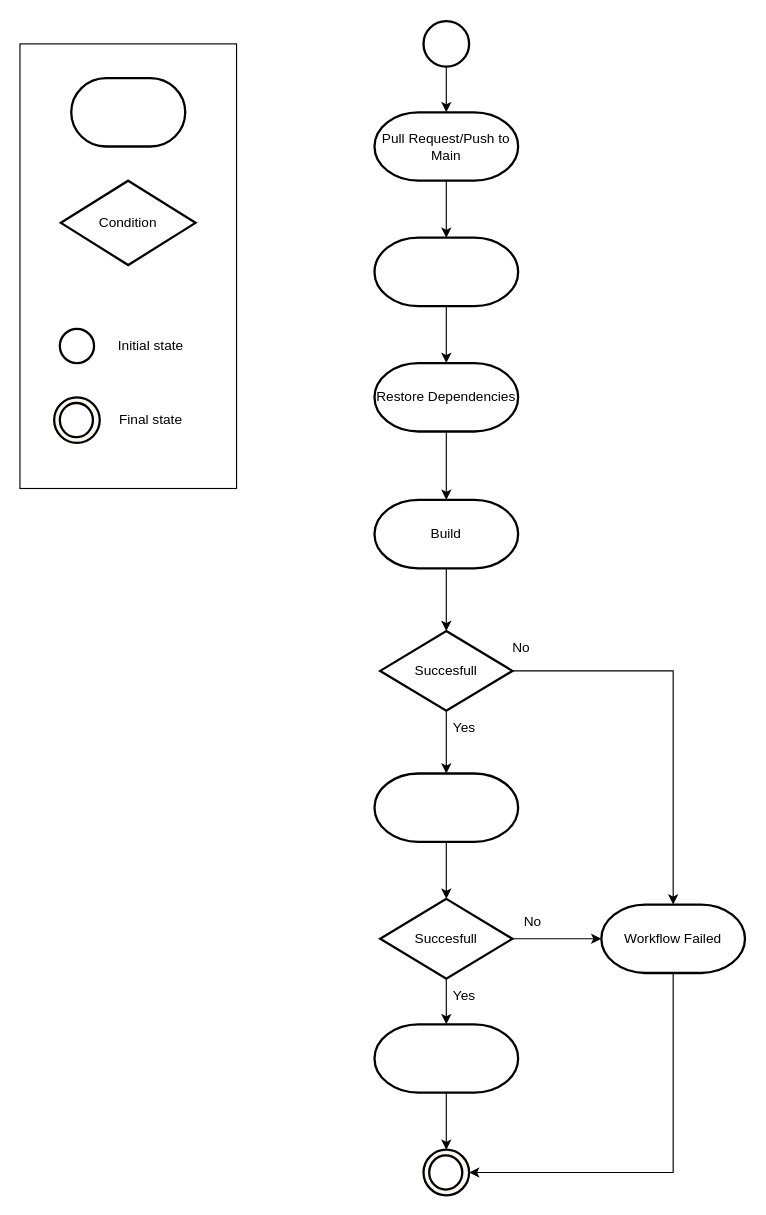
This 766x1215 diagram has some shape labels left out. The shapes that lost their labels are listed below. From the top down, each one's box as (x1, y1, x2, y2) in pixels, then its label:
(70, 76, 186, 147): Activity
(373, 236, 519, 307): Setup .NET
(373, 772, 519, 842): Test
(373, 1023, 519, 1093): Workflow Succeded
